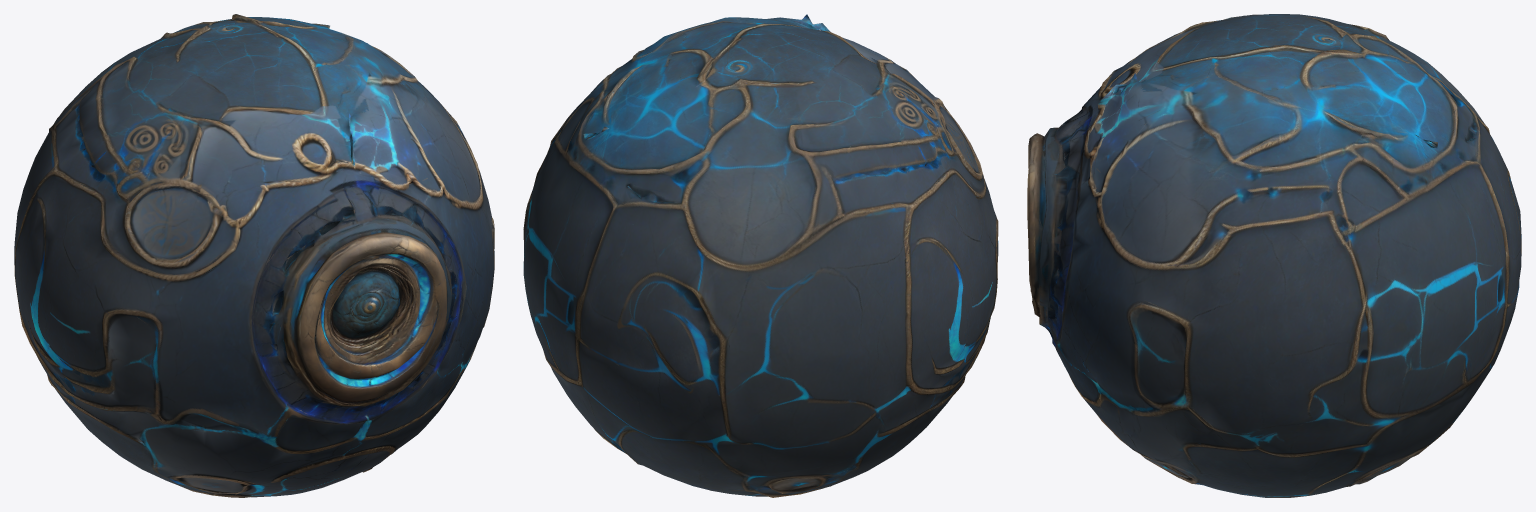
The model's file is A_dark_stone_sphere_w_0728122403_texture.fbx.
3 renders of one model, left to right at view 1: azimuth 30°, elevation 25°; view 2: azimuth 150°, elevation 25°; view 3: azimuth 270°, elevation 25°, orthographic. The views are drawn at different scales.
Parts seen in each view (by area): view 1: Mesh1.0; view 2: Mesh1.0; view 3: Mesh1.0.
Part boxes in pixels (<box>): Mesh1.0: <box>14,14,494,497</box>; Mesh1.0: <box>523,14,998,497</box>; Mesh1.0: <box>1027,14,1521,497</box>.
Size of the model in its own units: 181 by 179 by 182.
Materials: 1 (1 with a texture image).
